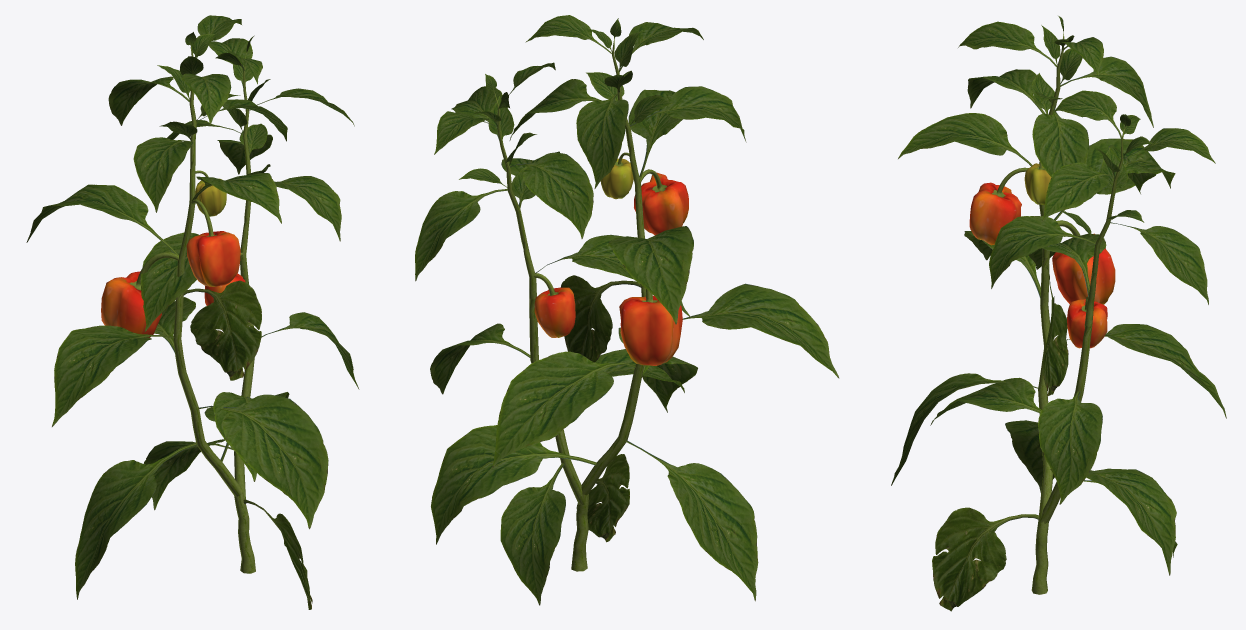
Rendered from Growing2.obj.
The picture shows the model from 3 angles, left to right: view 1: azimuth 30°, elevation 25°; view 2: azimuth 150°, elevation 25°; view 3: azimuth 270°, elevation 25°; orthographic projection. The views are drawn at different scales.
Parts seen in each view (by area): view 1: VG07_4; view 2: VG07_4; view 3: VG07_4.
Boxes of the visible parts, bbox=[...] form: VG07_4: bbox=[26, 15, 359, 609]; VG07_4: bbox=[415, 15, 839, 605]; VG07_4: bbox=[891, 16, 1226, 611].
Size of the model in its own units: 0.5486 by 0.7989 by 0.4502.
5 materials, 5 textured.
